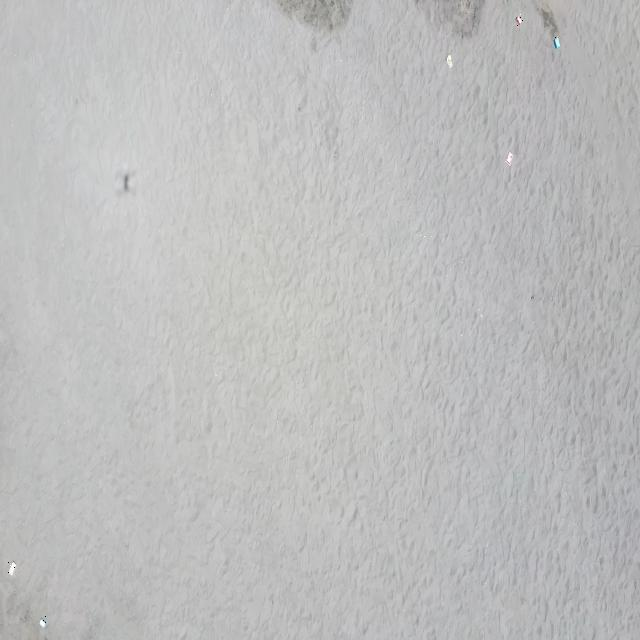retort-pouch: (505, 150, 513, 166), (446, 52, 453, 70), (8, 561, 16, 576), (515, 12, 523, 26), (554, 37, 560, 51), (40, 616, 46, 628)
